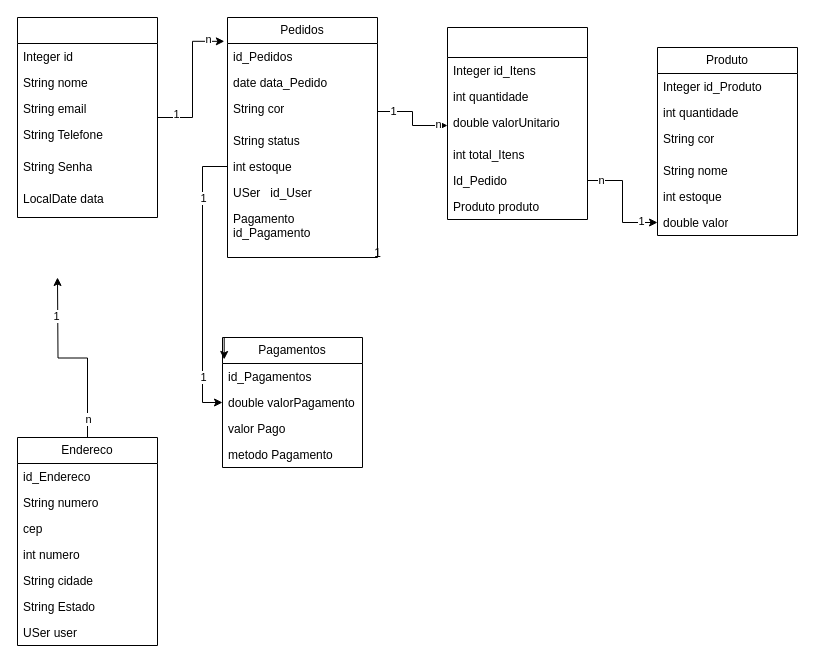
Some shapes in this 815 by 666 pixel diagram are drawn without their labels. Here are the shapes that lost their labels. From the top down, the box of each, then its label:
(16, 16, 158, 218): User
(446, 26, 588, 220): Itens_Pedido
